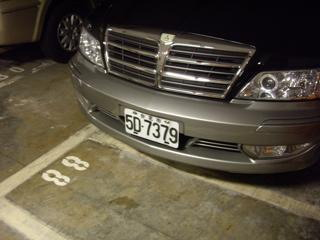plate: (122, 105, 181, 149)
